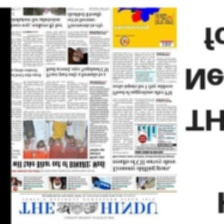news_paper: (8, 6, 177, 223)
